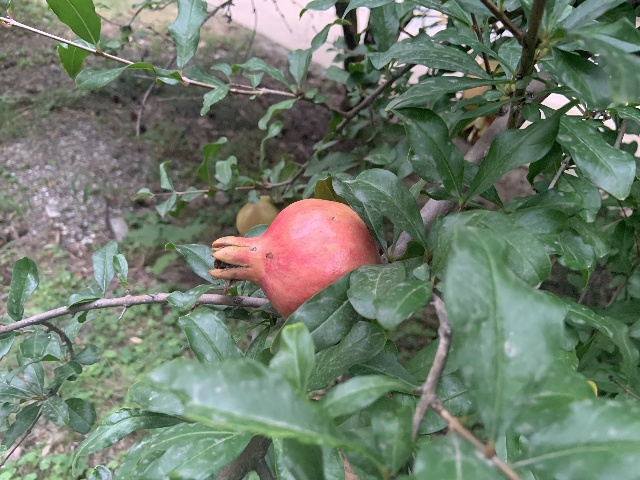mid-growth: (236, 195, 278, 237)
ripe: (206, 197, 380, 320)
